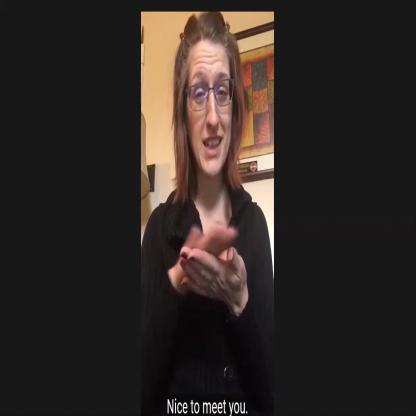NiceToMeetYou: (174, 197, 254, 314)
